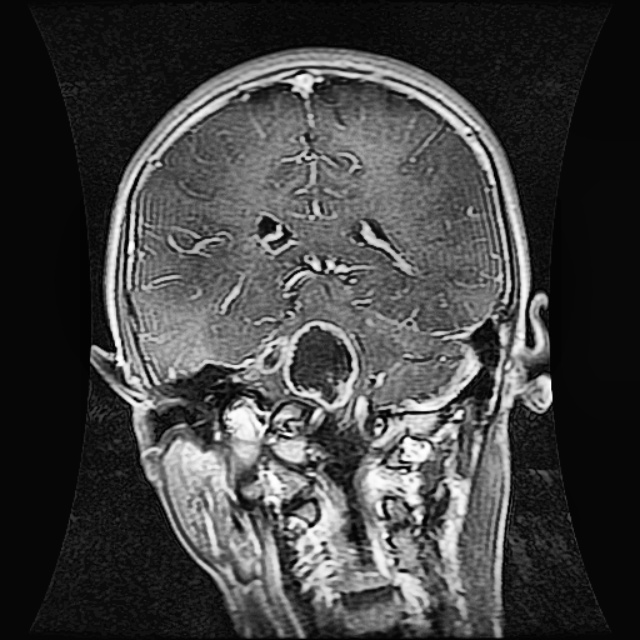Meningioma: (257, 314, 355, 408)
